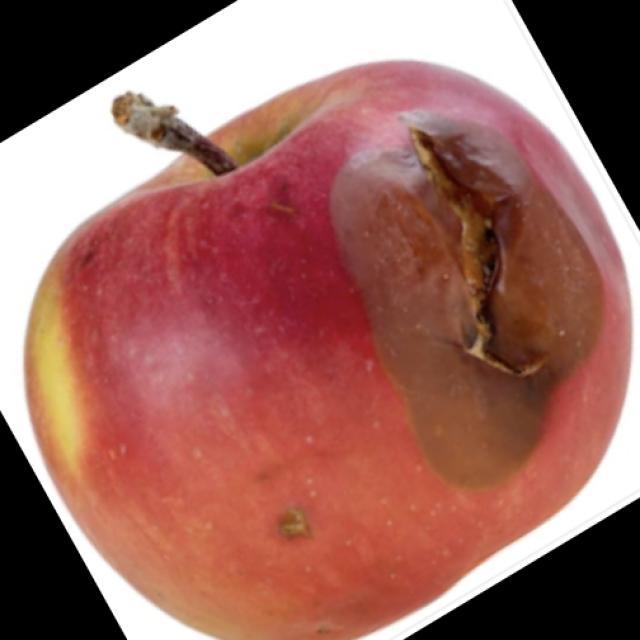Rotten: (43, 54, 630, 624)
